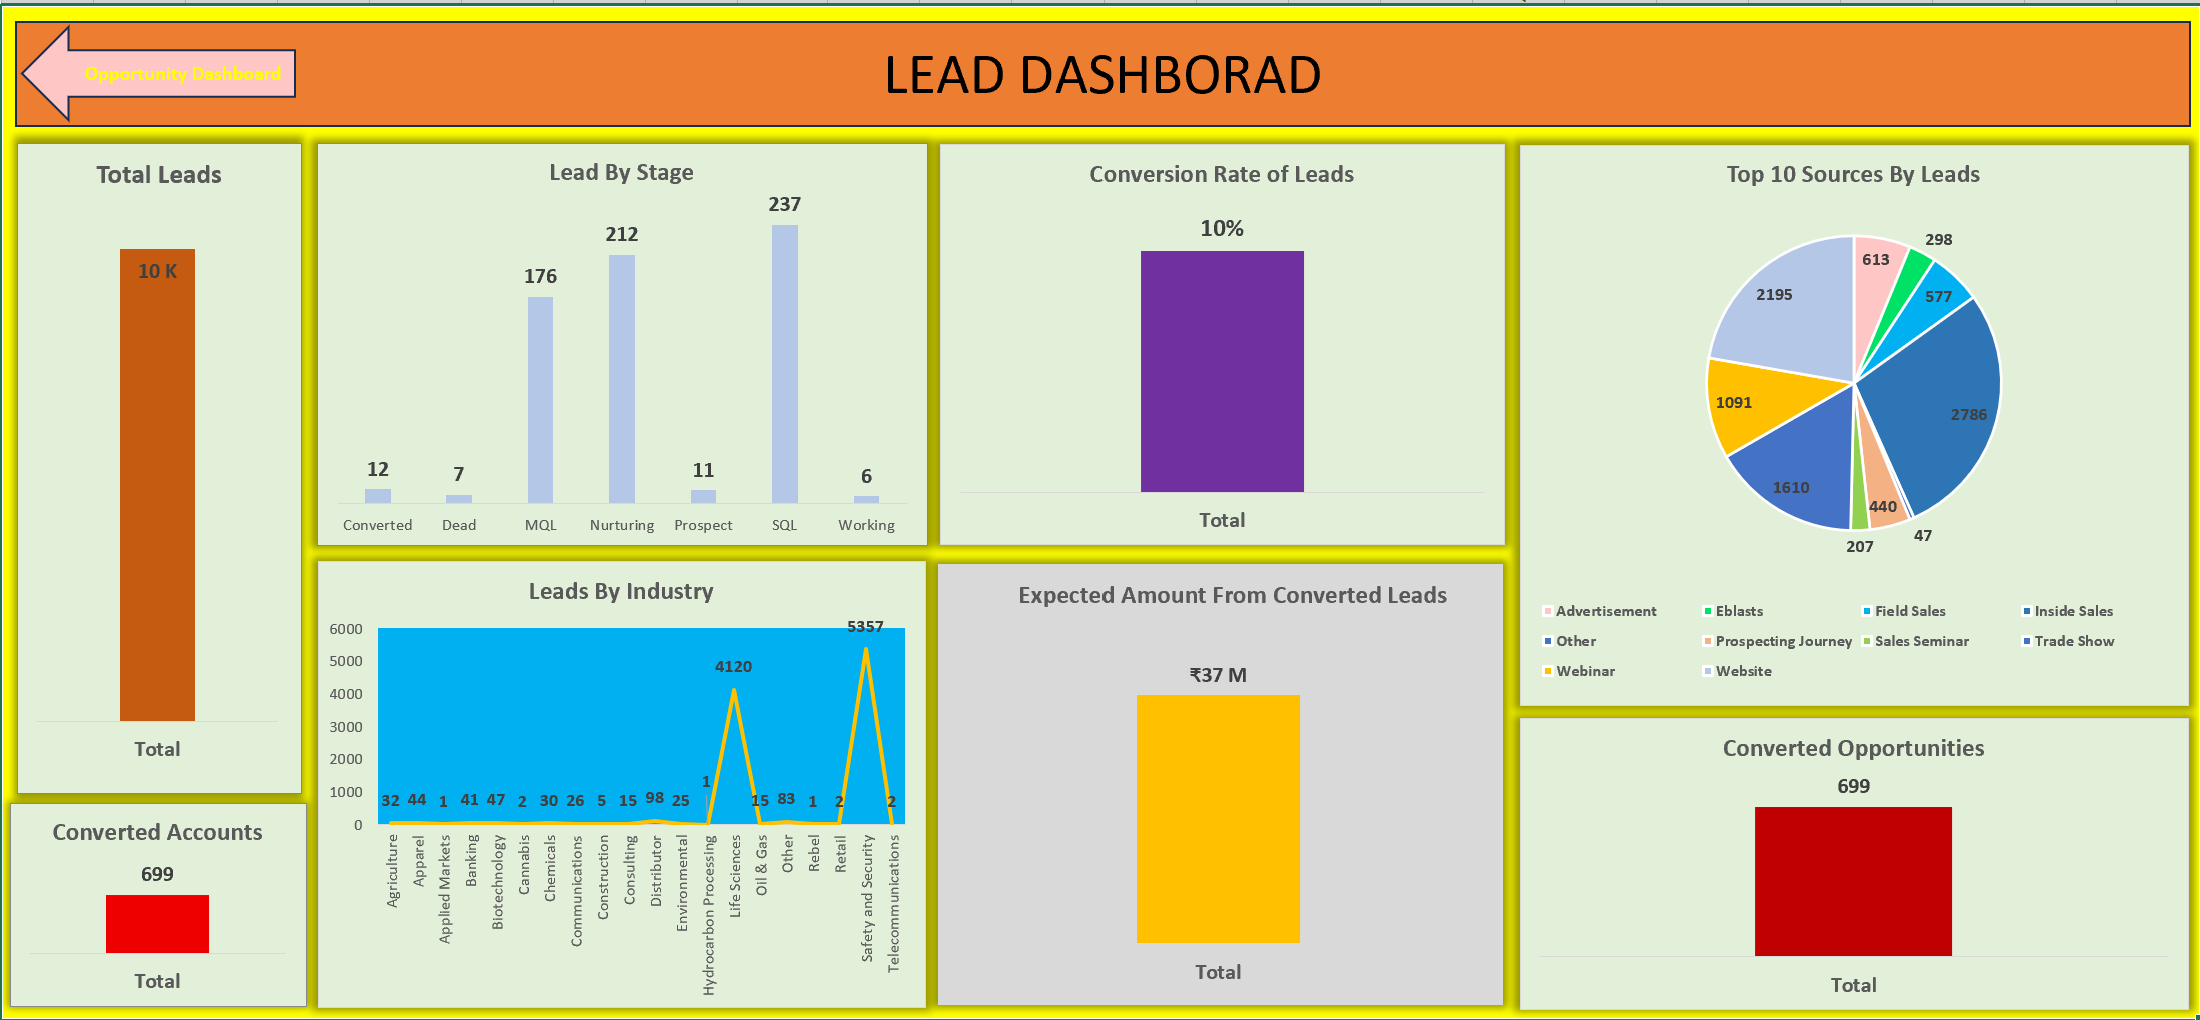

What the dashboard file says about the page in this screenshot:
{"tool":"tableau","page":{"name":"Lead Dashboard","canvas":[1657,861],"ordinal":0},"visuals":[{"type":"text","box":[2,24,1652,72]},{"type":"image","param":"Image/Picture1.png","box":[16,28,130,63]},{"type":"dashboard-object","box":[974,28,245,52]},{"type":"worksheet","title":"Sheet 7","mark":"Automatic","box":[774,81,178,113]},{"type":"worksheet","title":"Sheet 4","mark":"Automatic","box":[30,82,233,105]},{"type":"worksheet","title":"Sheet 5","mark":"Automatic","box":[263,82,289,107]},{"type":"worksheet","title":"Sheet 8","mark":"Automatic","box":[545,82,228,108]},{"type":"worksheet","title":"Sheet 6","mark":"Automatic","box":[952,82,272,112]},{"type":"worksheet","title":"Lead by Industry","mark":"Automatic","rows":["Industry"],"cols":["Total Leads"],"box":[869,231,395,315]},{"type":"worksheet","title":"Lead by source","mark":"Circle","box":[32,235,424,304]},{"type":"worksheet","title":"Lead by Stage","mark":"Automatic","rows":["Total Leads"],"cols":["Lead Status at Conversion"],"box":[457,239,403,301]},{"type":"filter","title":"Lead by source","param":"[federated.1us913x0iaojib1exc1v11rsi8q6].[sum:Total Leads:qk]","box":[33,298,119,61]},{"type":"filter","title":"Lead by Stage","param":"[federated.1us913x0iaojib1exc1v11rsi8q6].[sum:Total Leads:qk]","box":[462,303,160,61]},{"type":"filter","title":"Lead by Industry","param":"[federated.1us913x0iaojib1exc1v11rsi8q6].[sum:Total Leads:qk]","box":[1103,482,160,61]}]}

Visuals, with their boxes on the page's 1657x861 design canvas (x1, y1, x2, y2). These are canvas units, not pixel positions in the 2200x1020 screenshot, which may show the page scaled, cropped or inside an application window:
text: region(2, 24, 1654, 96)
image: region(16, 28, 146, 91)
dashboard-object: region(974, 28, 1219, 80)
"Sheet 7" worksheet: region(774, 81, 952, 194)
"Sheet 4" worksheet: region(30, 82, 263, 187)
"Sheet 5" worksheet: region(263, 82, 552, 189)
"Sheet 8" worksheet: region(545, 82, 773, 190)
"Sheet 6" worksheet: region(952, 82, 1224, 194)
"Lead by Industry" worksheet: region(869, 231, 1264, 546)
"Lead by source" worksheet (Circle marks): region(32, 235, 456, 539)
"Lead by Stage" worksheet: region(457, 239, 860, 540)
"Lead by source" filter: region(33, 298, 152, 359)
"Lead by Stage" filter: region(462, 303, 622, 364)
"Lead by Industry" filter: region(1103, 482, 1263, 543)
